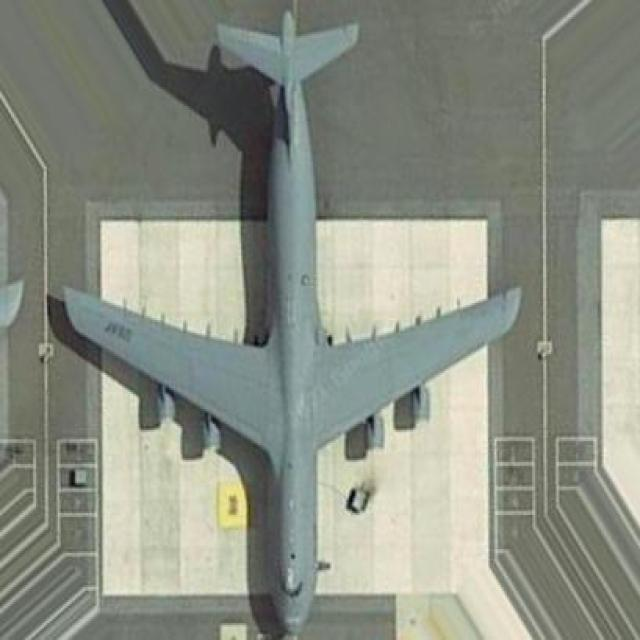C-5_TopDown: (45, 9, 527, 639)
